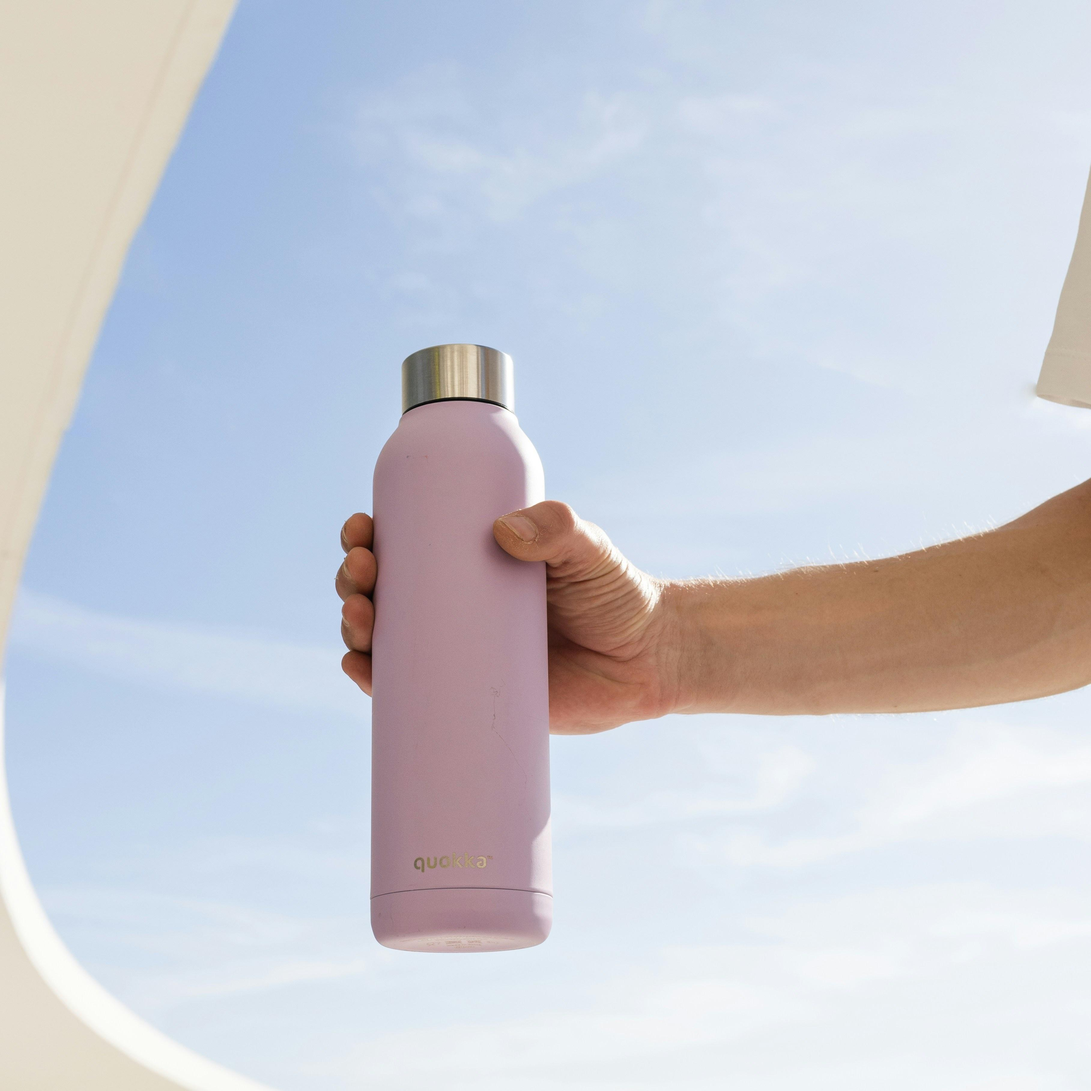Bottle-Detection: (273, 276, 637, 1024)
